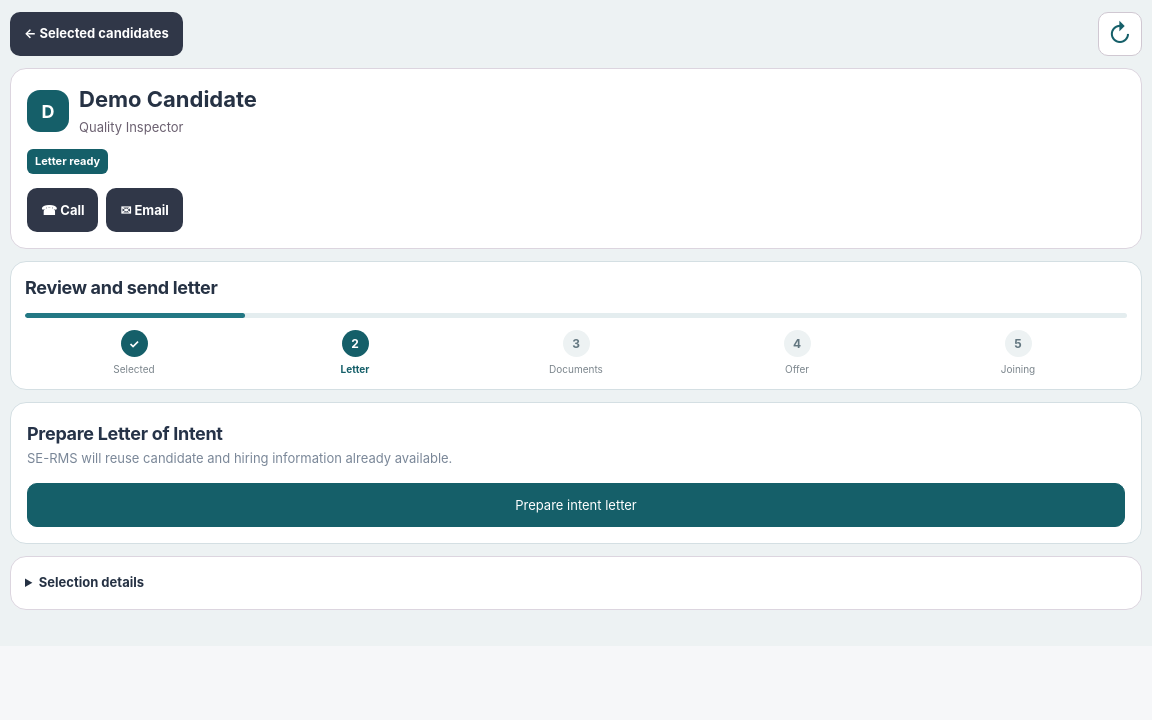
letter preparation checks readiness before generation
Expected: the heading "Demo Candidate" is shown, left=79, top=85, right=257, bottom=114
What coordinates should you click on to do the following:
click the button "Prepare intent letter"
I would click on:
 (576, 505)
Its box is left=27, top=483, right=1125, bottom=527.
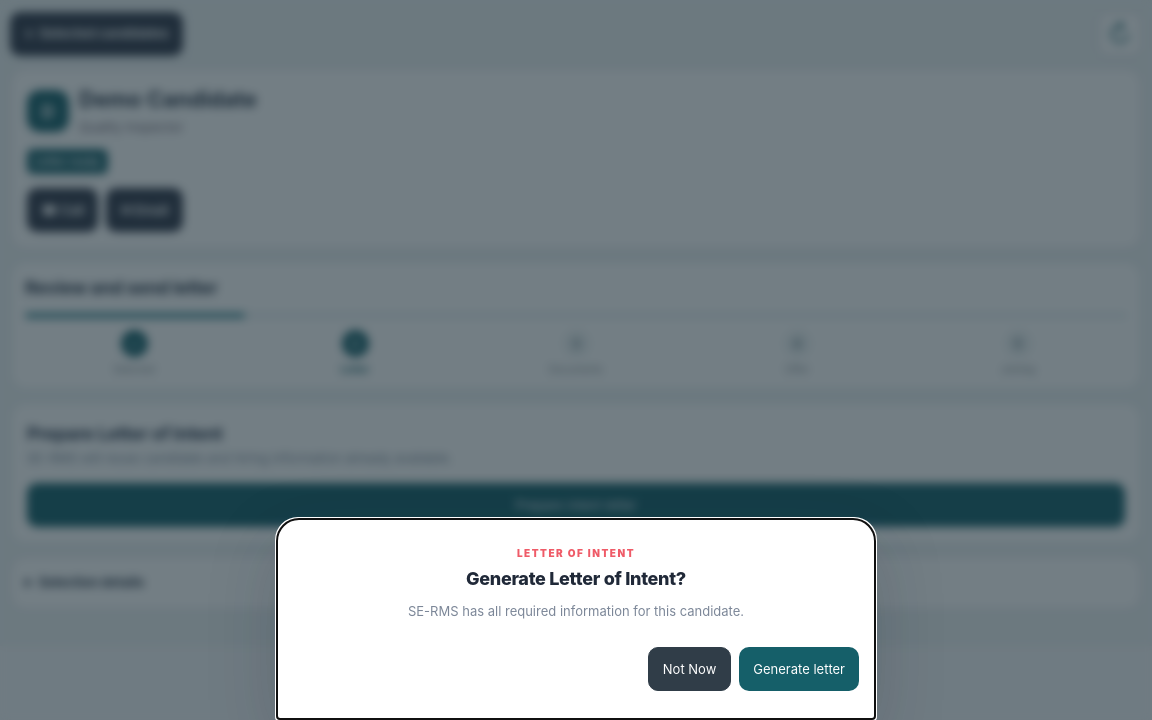
Expected: the dialog is shown, left=276, top=518, right=876, bottom=719
